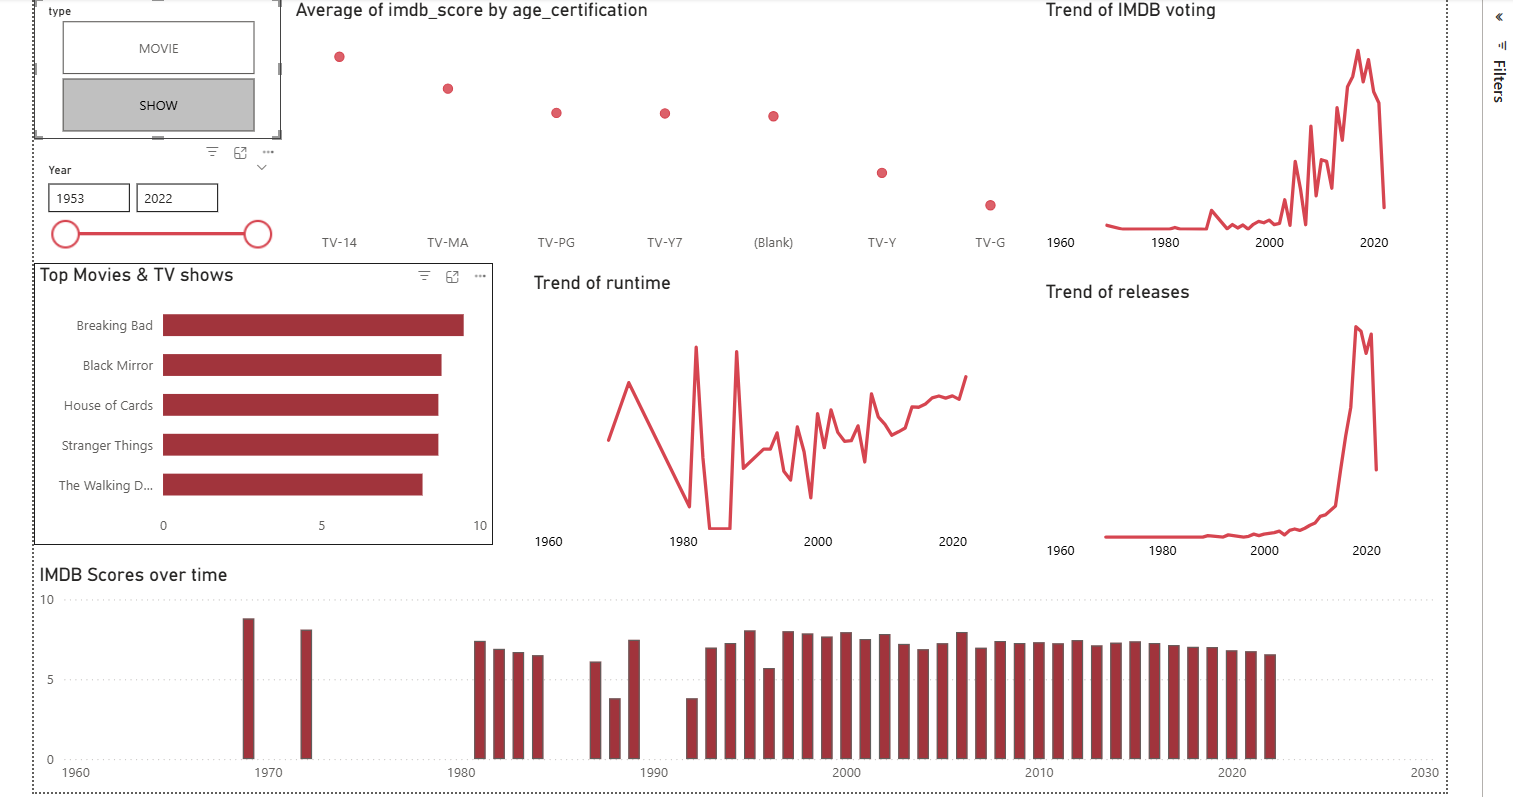

What the dashboard file says about the page in this screenshot:
{"tool":"powerbi","page":{"name":"Page 1","canvas":[1280,720],"ordinal":0},"visuals":[{"type":"clusteredBarChart","title":"Top Movies & TV shows","fields":{"Category":["Netflix TV Shows and Movies.title"],"Y":["Sum(Netflix TV Shows and Movies.imdb_score)"]},"box":[288,352,448,192],"z":0},{"type":"slicer","fields":{"Values":["Netflix TV Shows and Movies.type"]},"box":[0,0,224,128],"z":1},{"type":"slicer","fields":{"Values":["Netflix TV Shows and Movies.release_year"]},"box":[0,144,224,128],"z":2},{"type":"lineChart","title":"Trend of releases","fields":{"Category":["Netflix TV Shows and Movies.release_year"],"Y":["CountNonNull(Netflix TV Shows and Movies.title)"]},"box":[864,0,416,208],"z":3},{"type":"clusteredColumnChart","title":"IMDB Scores over time","fields":{"Category":["Netflix TV Shows and Movies.release_year"],"Y":["Avg(Netflix TV Shows and Movies.imdb_score)"]},"box":[0,512,1280,208],"z":4},{"type":"lineChart","title":"Trend of IMDB voting","fields":{"Category":["Netflix TV Shows and Movies.release_year"],"Y":["Sum(Netflix TV Shows and Movies.imdb_votes)"]},"box":[704,128,576,208],"z":5},{"type":"lineChart","title":"Trend of runtime","fields":{"Category":["Netflix TV Shows and Movies.release_year"],"Y":["Avg(Netflix TV Shows and Movies.runtime)"]},"box":[672,336,608,160],"z":7},{"type":"scatterChart","fields":{"Y":["Avg(Netflix TV Shows and Movies.imdb_score)"],"X":["Netflix TV Shows and Movies.age_certification"]},"box":[0,336,672,160],"z":8}]}

Visuals, with their boxes on the page's 1280x720 design canvas (x1, y1, x2, y2). These are canvas units, not pixel positions in the 1513x797 screenshot, which may show the page scaled, cropped or inside an application window:
"Top Movies & TV shows" clusteredBarChart: bbox=(288, 352, 736, 544)
slicer - Netflix TV Shows and Movies.type: bbox=(0, 0, 224, 128)
slicer - Netflix TV Shows and Movies.release_year: bbox=(0, 144, 224, 272)
"Trend of releases" lineChart: bbox=(864, 0, 1280, 208)
"IMDB Scores over time" clusteredColumnChart: bbox=(0, 512, 1280, 720)
"Trend of IMDB voting" lineChart: bbox=(704, 128, 1280, 336)
"Trend of runtime" lineChart: bbox=(672, 336, 1280, 496)
scatterChart - Avg(Netflix TV Shows and Movies.imdb_score) x Netflix TV Shows and Movies.age_certification: bbox=(0, 336, 672, 496)
